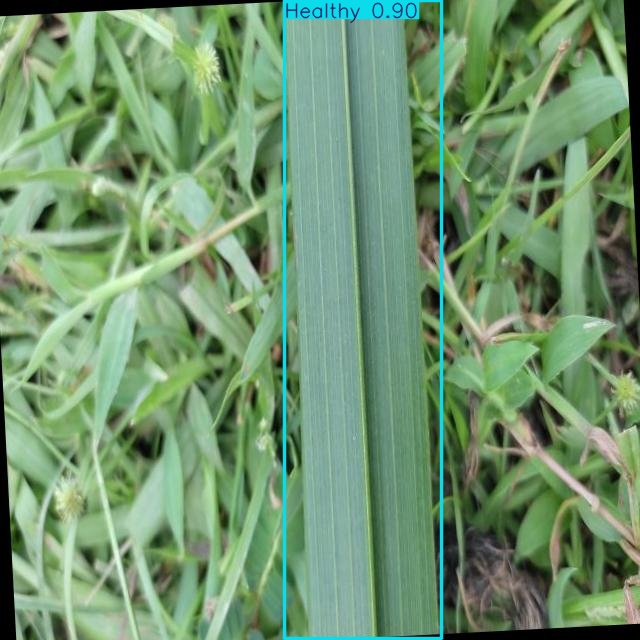Healthy: (284, 0, 442, 639)
